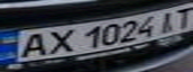0: (100, 20, 124, 47)
1: (78, 24, 103, 49)
2: (118, 17, 142, 44)
4: (136, 12, 163, 38)
A: (9, 30, 54, 60)
I: (151, 8, 181, 34)
T: (166, 4, 193, 29)
X: (39, 26, 78, 56)
